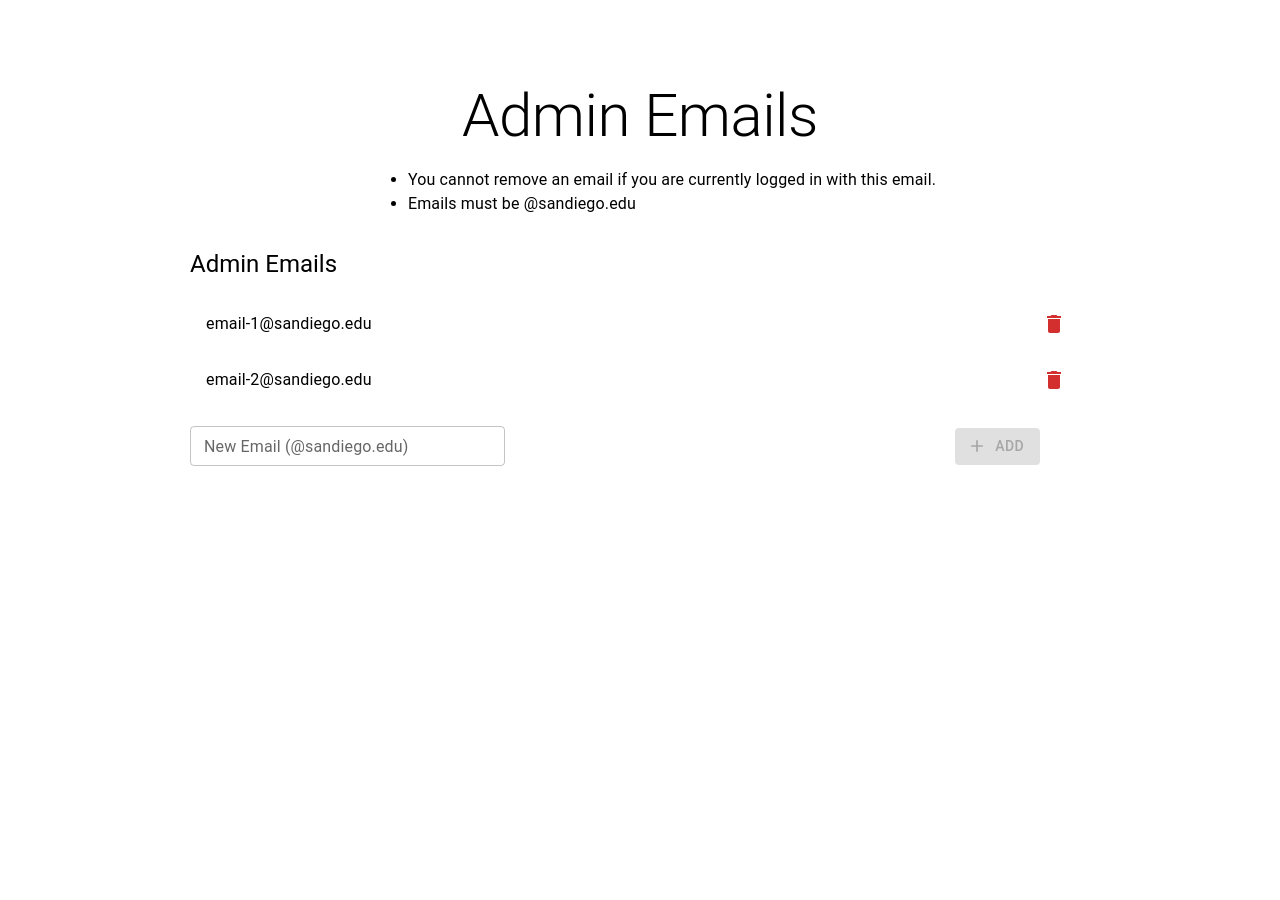
Test: AdminEmails › deleting › asks for confirmation before deleting
Expected: the text "email-1@sandiego.edu" is shown, [206,314,372,333]
Click the button with test id "delete-btn" in the row of "email-1@sandiego.edu" at (1054, 324), box [1034,304,1074,344]
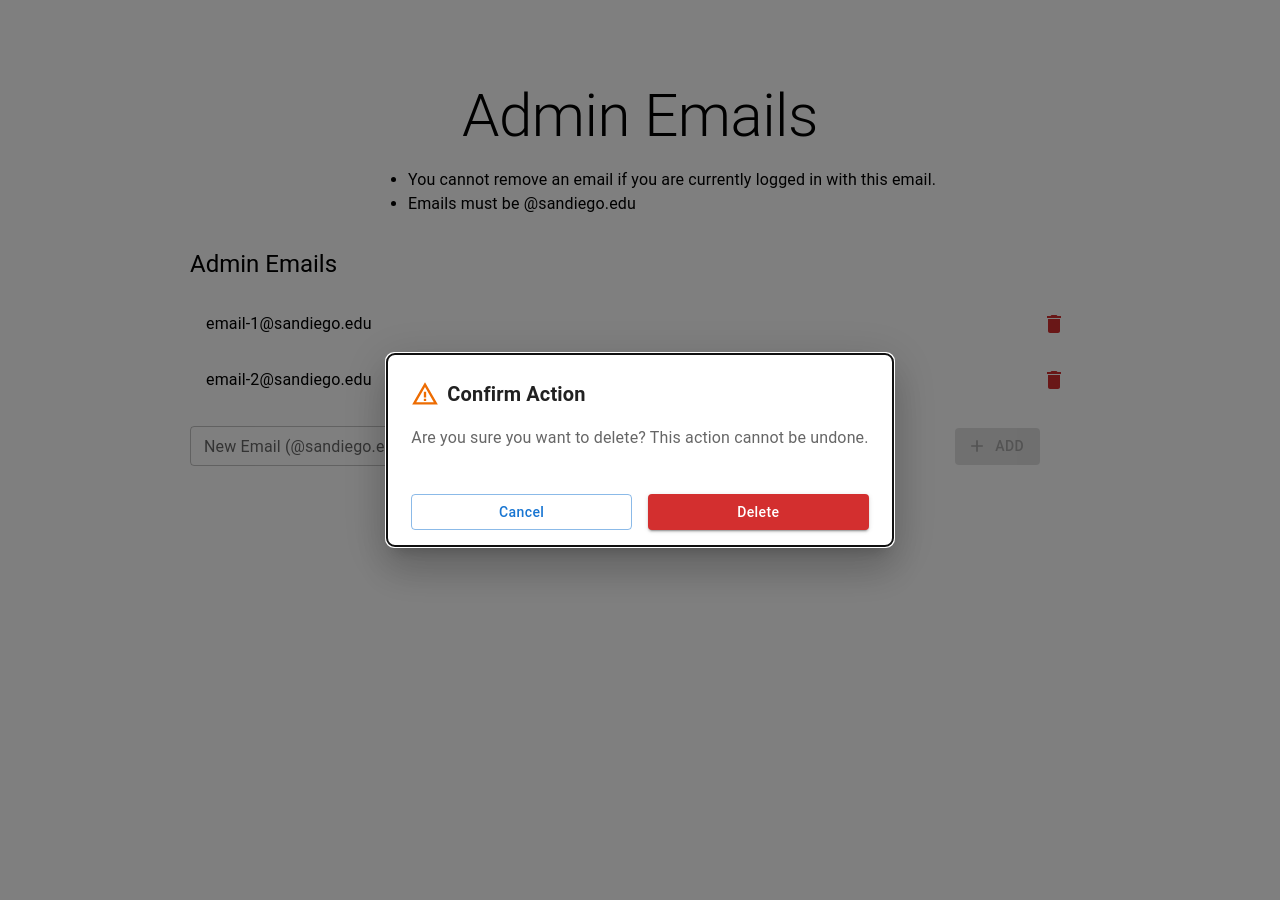
Result: the text "Are you sure you want to delete" is shown at [411,426,869,450]
Result: the button with test id "confirm" is shown at [648,494,869,530]
